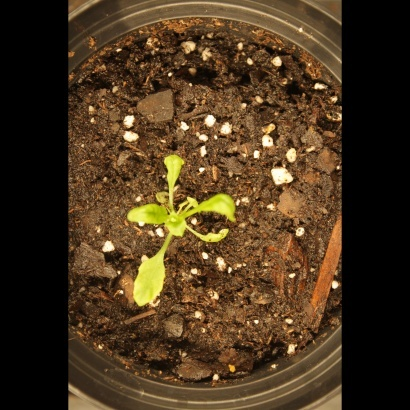leaf: (127, 256, 187, 315), (118, 196, 173, 232), (196, 191, 247, 222), (151, 149, 193, 186), (187, 222, 232, 247), (164, 211, 189, 243), (179, 192, 202, 215)
